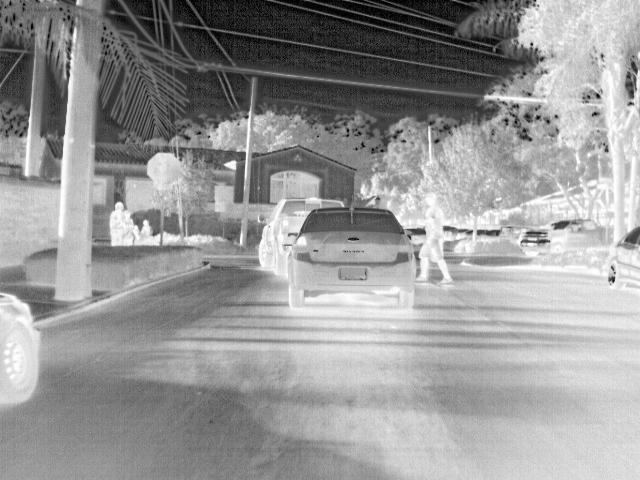car: (288, 208, 416, 310), (257, 197, 348, 275), (1, 286, 41, 408), (519, 216, 614, 257), (603, 227, 640, 291), (465, 227, 497, 246), (404, 225, 426, 242), (446, 225, 461, 242), (460, 225, 475, 240)
person: (416, 192, 454, 287), (108, 198, 127, 246), (127, 210, 139, 246), (141, 218, 155, 238)
